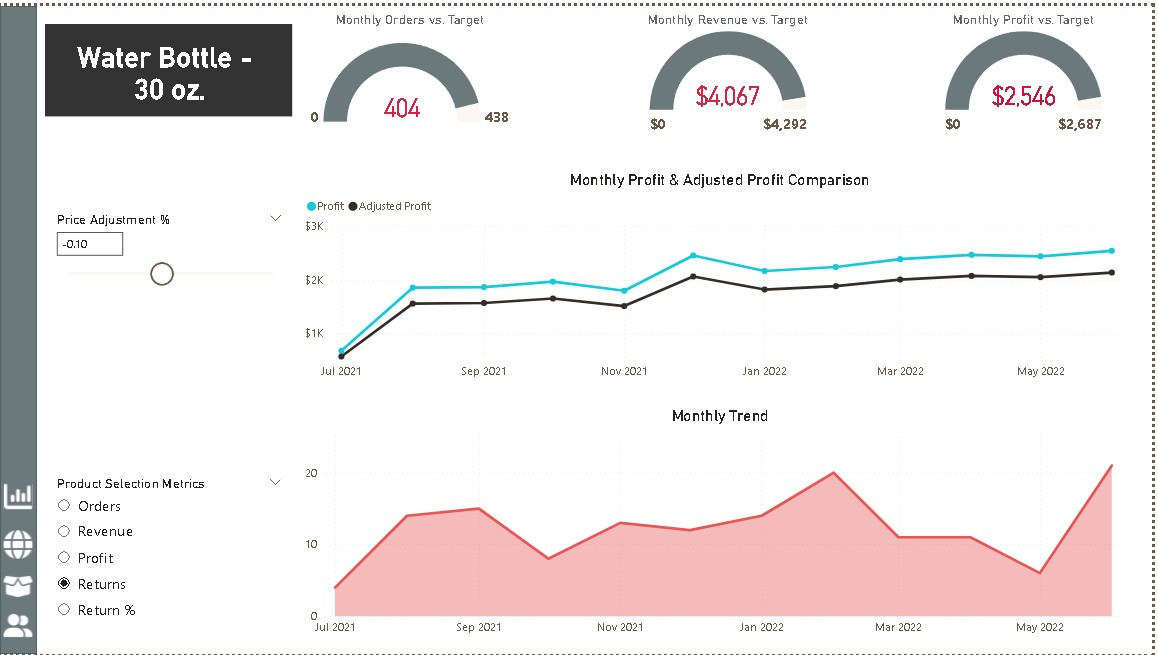

The dashboard page shown, as its layout file describes it:
{"tool":"powerbi","page":{"name":"Product Details","canvas":[1280,720],"ordinal":2},"visuals":[{"type":"areaChart","title":"Monthly Trend","fields":{"Y":["_Measure Table.Total Returns"],"Category":["Calendar Lookup.Start of Month"]},"box":[335.5,444.5,930,263.6],"z":0},{"type":"slicer","fields":{"Values":["Product Selection Metrics.Product Selection Metrics"]},"box":[50,516.4,274.5,191.8],"z":1000},{"type":"card","fields":{"Values":["Min(Product Lookup.Product Name)"]},"box":[50,20,274.5,102.7],"z":2000},{"type":"shape","box":[0,0,41,720],"z":3000},{"type":"gauge","title":"Monthly Orders vs. Target","fields":{"Y":["_Measure Table.Total Orders"],"MaxValue":["_Measure Table.Target Orders"]},"box":[335.5,6.4,240.9,144.5],"z":4000},{"type":"gauge","title":"Monthly Revenue vs. Target","fields":{"MaxValue":["_Measure Table.Target Revenue"],"Y":["_Measure Table.Total Revenue"]},"box":[689.1,6.4,240.9,144.5],"z":5000},{"type":"gauge","title":"Monthly Profit vs. Target","fields":{"Y":["_Measure Table.Profit"],"MaxValue":["_Measure Table.Target Profits"]},"box":[1017.3,6.4,240.9,144.5],"z":6000},{"type":"slicer","fields":{"Values":["Price Adjustment %.Price Adjustment %"]},"box":[50,223.6,275.5,165.5],"z":7000},{"type":"lineChart","title":"Monthly Profit & Adjusted Profit Comparison","fields":{"Category":["Calendar Lookup.Start of Month"],"Y":["_Measure Table.Profit","_Measure Table.Adjusted Profit"]},"box":[335.5,183.6,930,240.9],"z":8000},{"type":"group","id":"g1","title":"Page Navigation Icon","box":[0,525.5,40.9,182.7],"z":9000},{"type":"actionButton","box":[0,525.5,40.9,40],"z":21000,"group":"g1"},{"type":"actionButton","box":[0,578.2,40.9,40],"z":22000,"group":"g1"},{"type":"actionButton","box":[0,625.5,40.9,40],"z":23000,"group":"g1"},{"type":"actionButton","box":[0,668.2,40.9,40],"z":24000,"group":"g1"}]}

Visuals, with their boxes on the page's 1280x720 design canvas (x1, y1, x2, y2). These are canvas units, not pixel positions in the 1158x655 screenshot, which may show the page scaled, cropped or inside an application window:
"Monthly Trend" areaChart: box=[336, 444, 1266, 708]
slicer - Product Selection Metrics.Product Selection Metrics: box=[50, 516, 324, 708]
card - Min(Product Lookup.Product Name): box=[50, 20, 324, 123]
shape: box=[0, 0, 41, 720]
"Monthly Orders vs. Target" gauge: box=[336, 6, 576, 151]
"Monthly Revenue vs. Target" gauge: box=[689, 6, 930, 151]
"Monthly Profit vs. Target" gauge: box=[1017, 6, 1258, 151]
slicer - Price Adjustment %.Price Adjustment %: box=[50, 224, 326, 389]
"Monthly Profit & Adjusted Profit Comparison" lineChart: box=[336, 184, 1266, 424]
"Page Navigation Icon" group: box=[0, 526, 41, 708]
actionButton: box=[0, 526, 41, 566]
actionButton: box=[0, 578, 41, 618]
actionButton: box=[0, 626, 41, 666]
actionButton: box=[0, 668, 41, 708]
